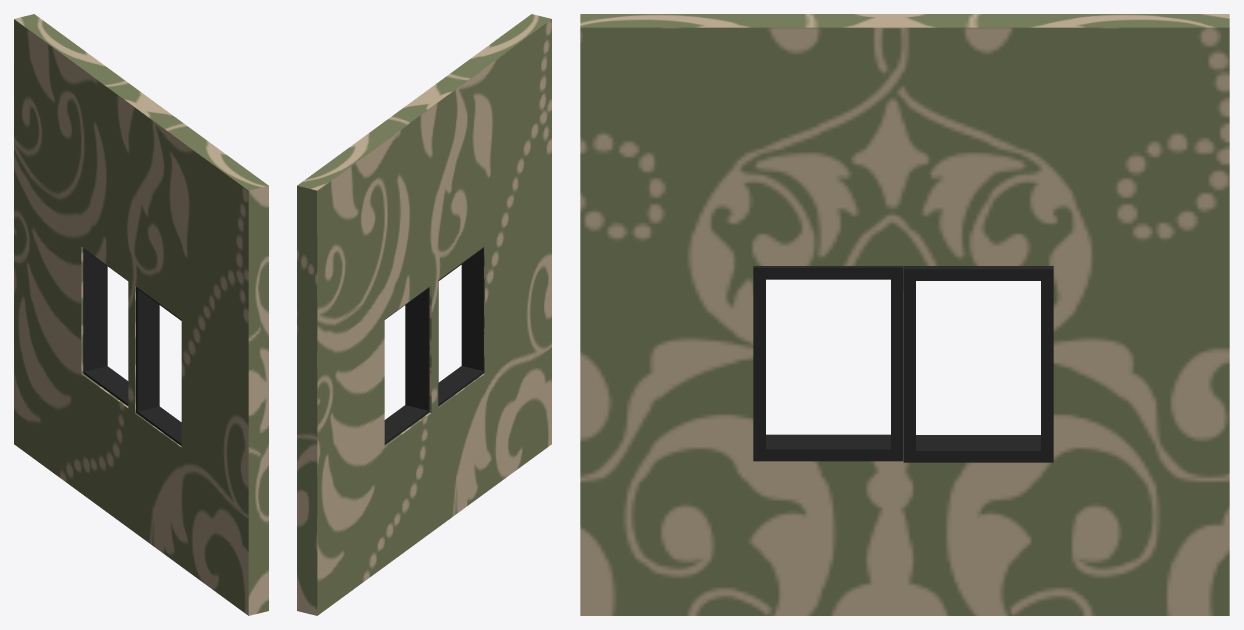
Rendered from wall_window.fbx.
3 views of the same model, side by side, from view 1: azimuth 30°, elevation 25°; view 2: azimuth 150°, elevation 25°; view 3: azimuth 270°, elevation 25° (orthographic). The views are drawn at different scales.
Visible parts, largest first — view 1: Wall_5x5.001; view 2: Wall_5x5.001; view 3: Wall_5x5.001.
Boxes of the visible parts, x1,y1,x2,y2 form: Wall_5x5.001: (14, 14, 268, 615); Wall_5x5.001: (297, 14, 551, 615); Wall_5x5.001: (580, 14, 1229, 615).
Size of the model in its own units: 31.26 by 500 by 500.
